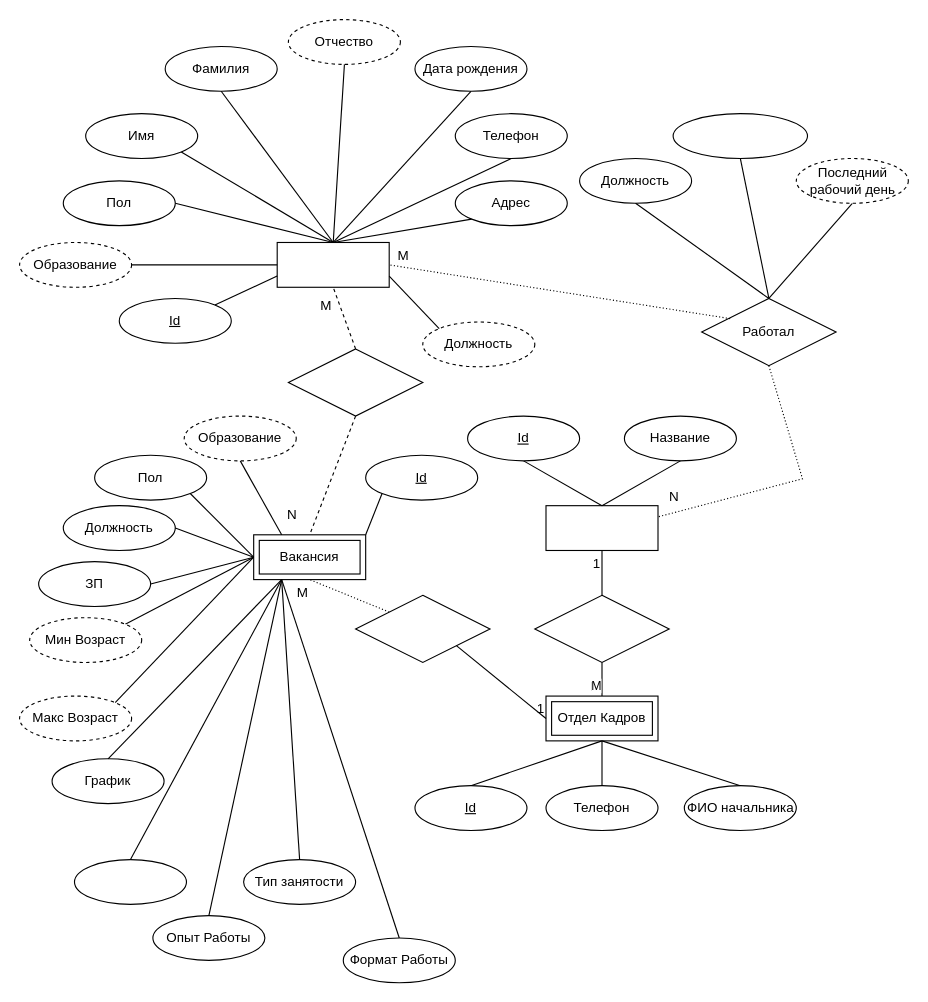
Some shapes in this 928 by 1002 pixel diagram are drawn without their labels. The shapes that lost their labels are listed below. From the top down, each one's box as (x1, y1, x2, y2) in pixels, then its label:
(672, 113, 808, 158): Первый рабочий день
(276, 241, 389, 287): Клиент
(287, 348, 423, 416): Подходит
(545, 505, 658, 550): Предприятие
(354, 594, 490, 662): Формирует
(534, 594, 669, 662): Имеет
(73, 858, 186, 904): Частота выплат
